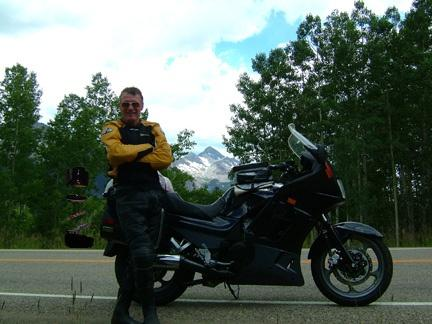tampered: (66, 167, 94, 248)
